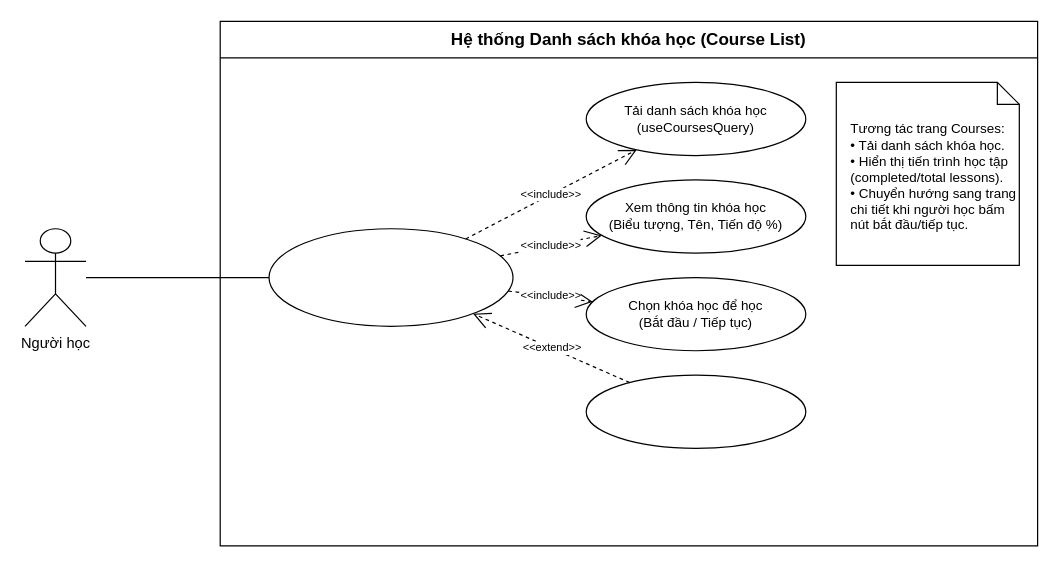
Some shapes in this 1059 by 567 pixel diagram are drawn without their labels. Each missing label, with the box of its shape:
Quay lại Dashboard: (585, 374, 806, 448)
Xem danh sách khóa học (Courses Page): (268, 228, 513, 326)
